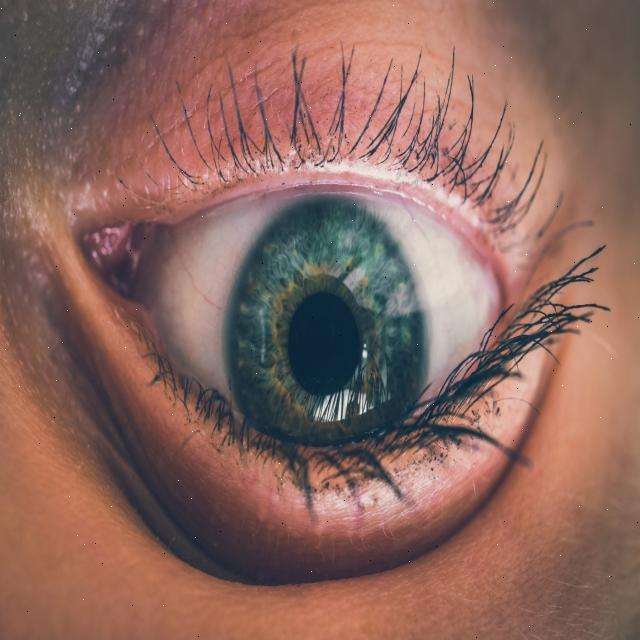Normal: (223, 190, 424, 499)
